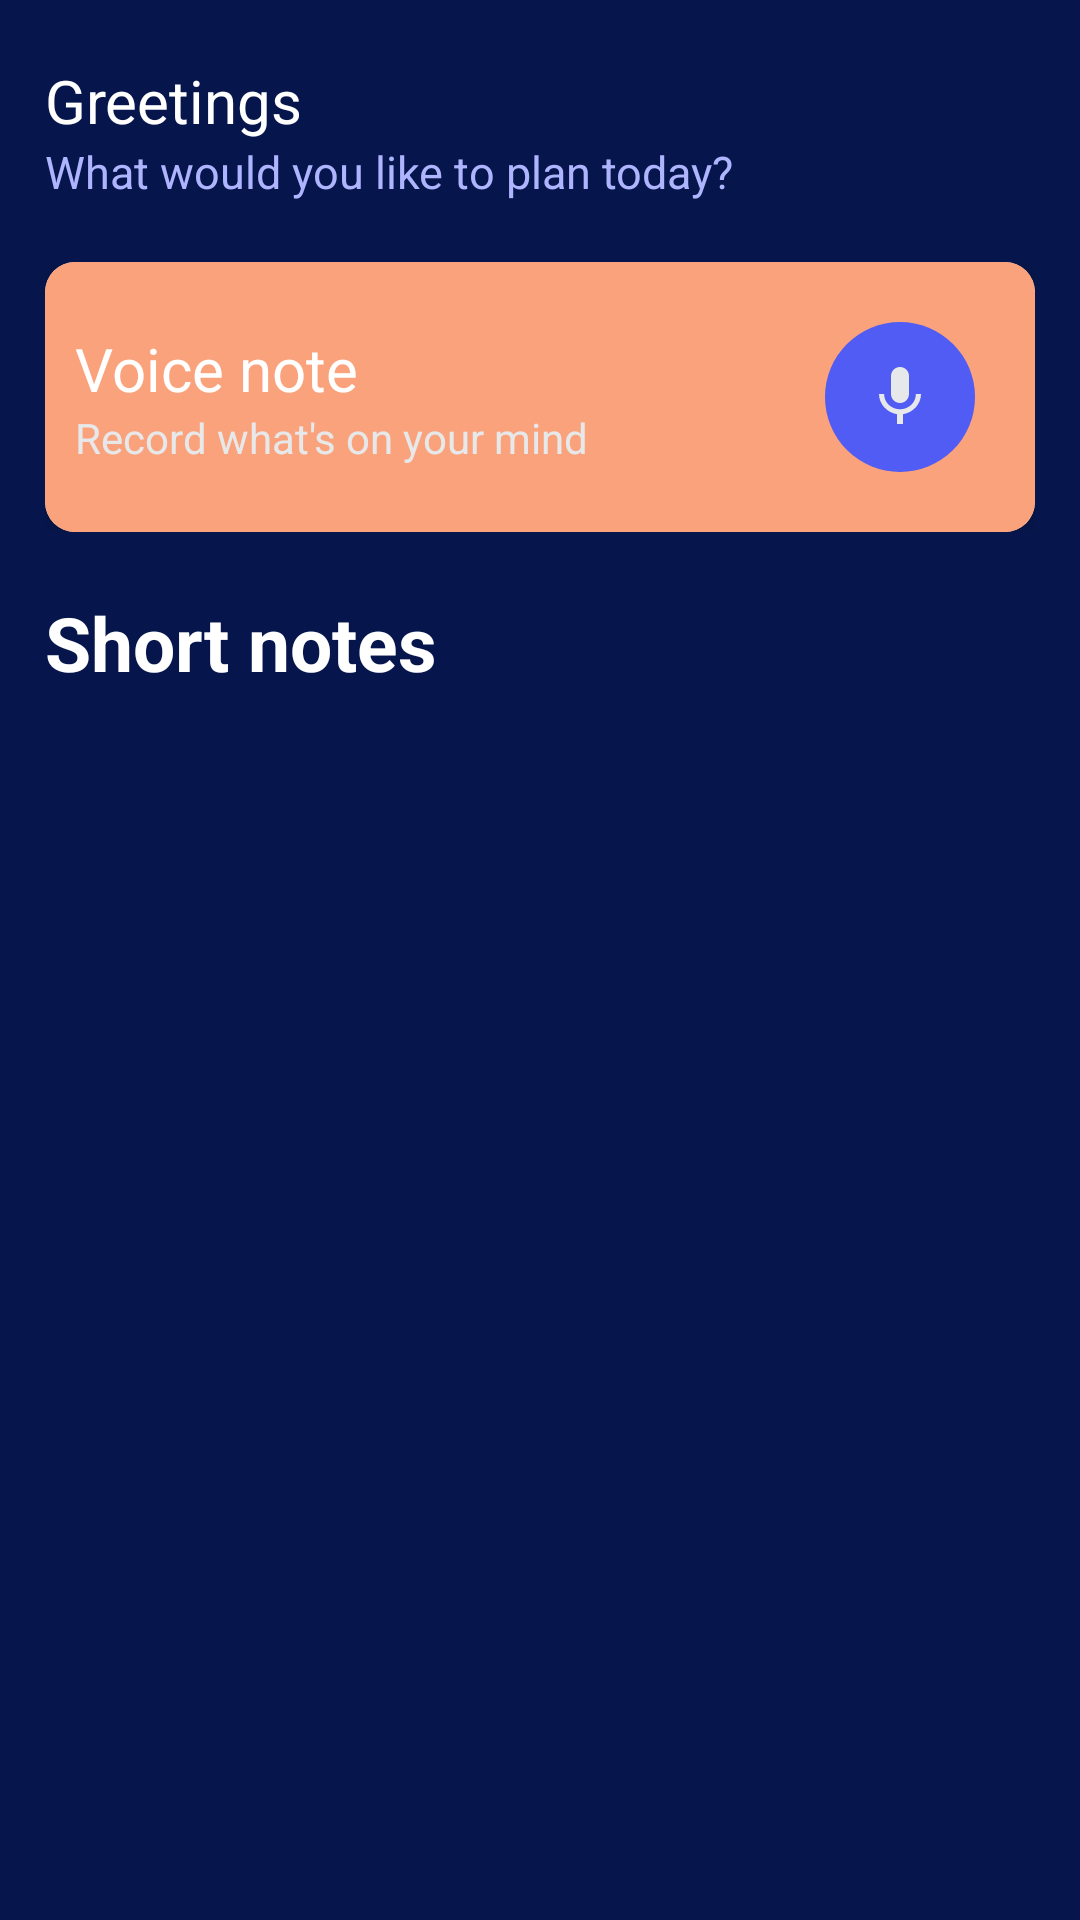

Named icons in this screenshot (1080w x 1920h) and their bounding boxes, bbox(x1, y1, x2, y2):
microphone: bbox(825, 322, 975, 472)
